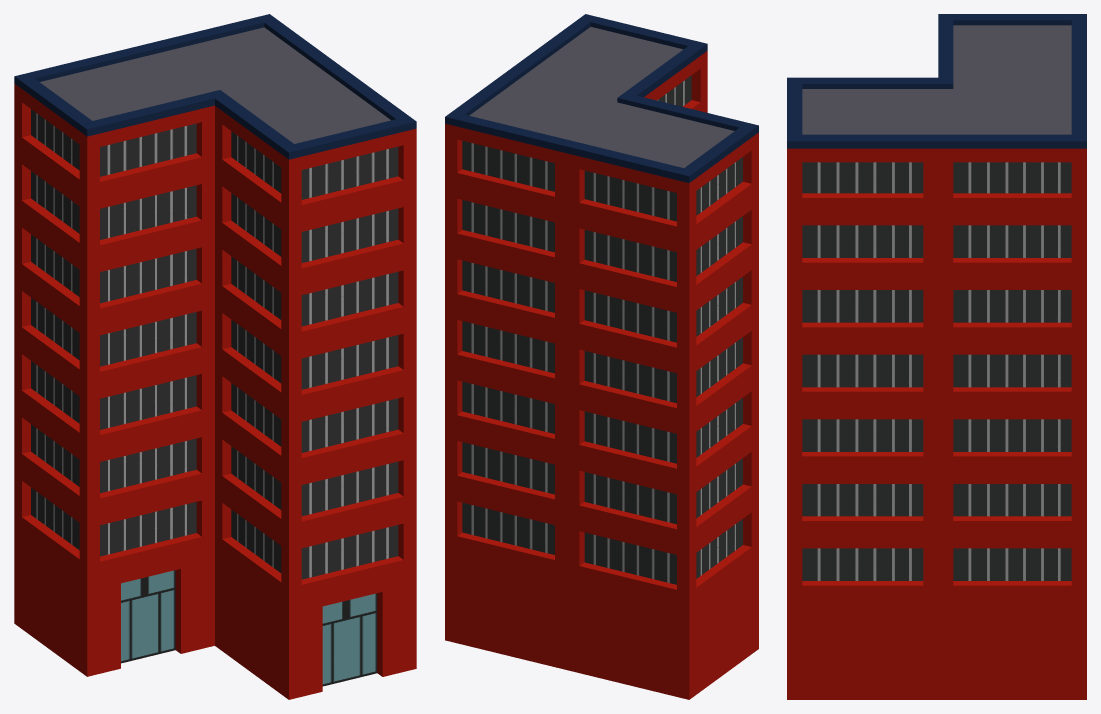
Rendered from building20c.FBX.
3 views of the same model, side by side, from view 1: azimuth 30°, elevation 25°; view 2: azimuth 150°, elevation 25°; view 3: azimuth 270°, elevation 25° (orthographic). The views are drawn at different scales.
Visible parts, largest first — view 1: building20c; view 2: building20c; view 3: building20c.
Boxes of the visible parts, x1,y1,x2,y2 form: building20c: [14, 14, 416, 699]; building20c: [445, 14, 758, 699]; building20c: [787, 14, 1086, 699].
Bounding box in the file's own units: 19.9 × 40.77 × 19.82.
